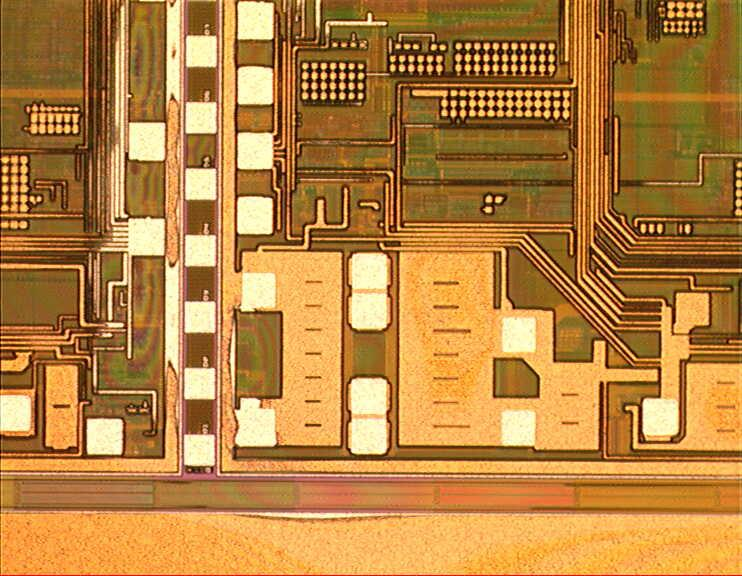COATING BAD: (1, 1, 742, 524)
